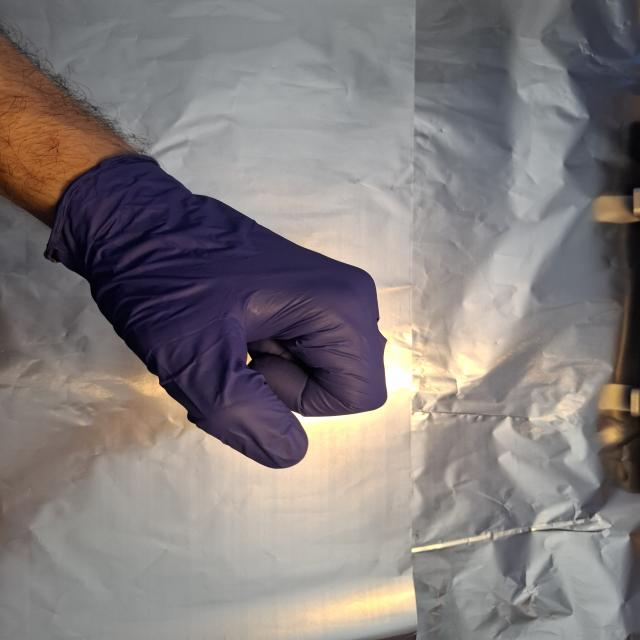glove_on: (41, 150, 394, 473)
